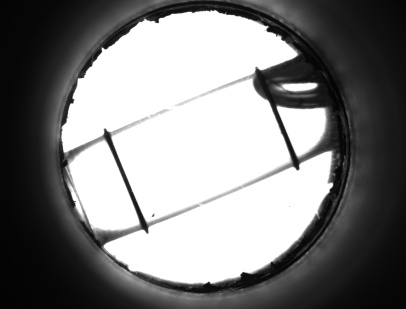line: (105, 151, 146, 212), (269, 117, 301, 150)
